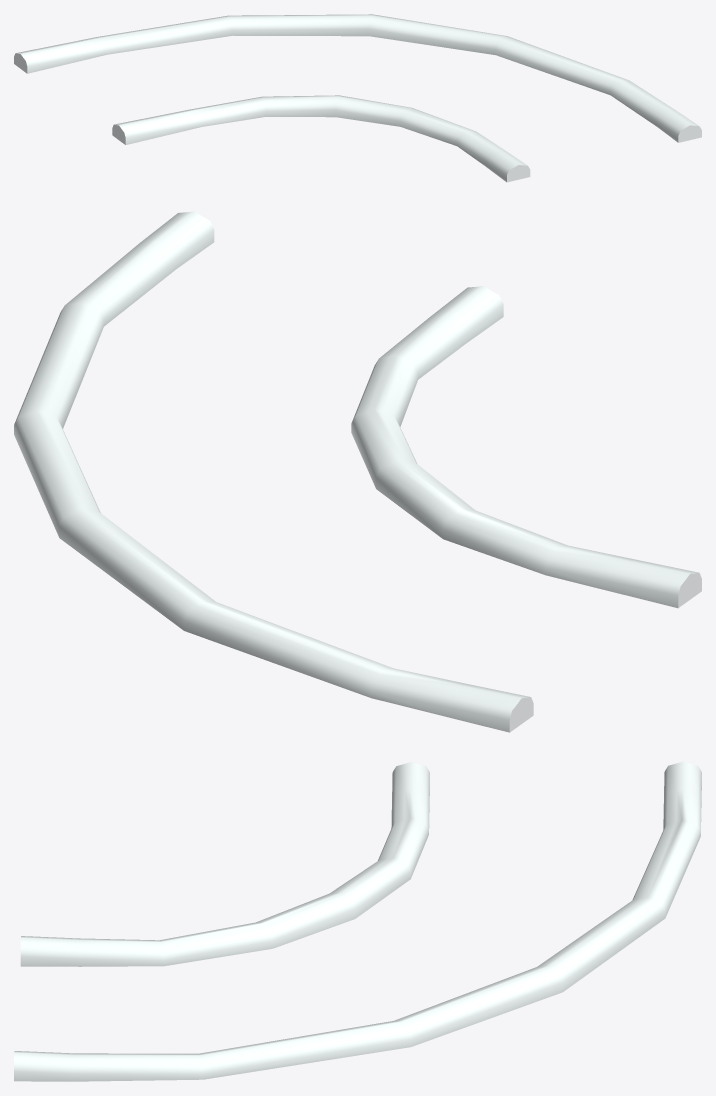
3 renders of one model, top to bottom at view 1: azimuth 30°, elevation 25°; view 2: azimuth 150°, elevation 25°; view 3: azimuth 270°, elevation 25°, orthographic. The views are drawn at different scales.
Parts seen in each view (by area): view 1: SnowmobileTrackBarriersCurved; view 2: SnowmobileTrackBarriersCurved; view 3: SnowmobileTrackBarriersCurved.
Boxes of the visible parts, box(x1,y1,x2,y2) form: SnowmobileTrackBarriersCurved: box(14, 14, 701, 182); SnowmobileTrackBarriersCurved: box(14, 211, 701, 732); SnowmobileTrackBarriersCurved: box(14, 761, 701, 1081).
Size of what is drawn, in the model's own units: 11.82 by 0.3824 by 11.46.
1 material, 1 textured.
